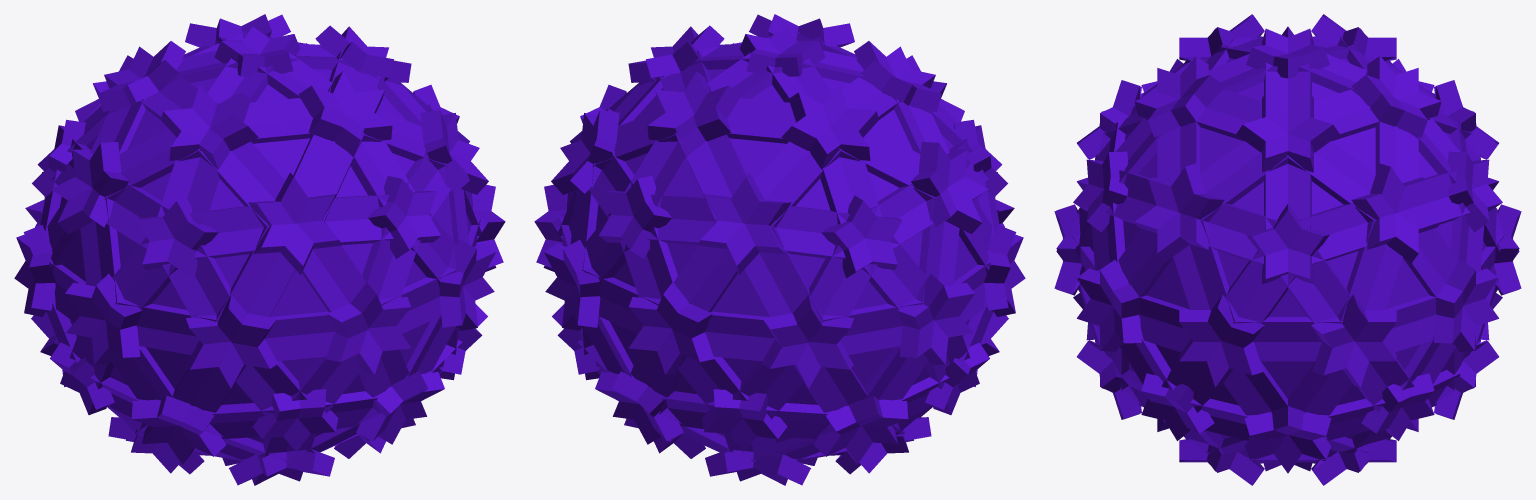
Rendered from Straight_S.obj.
3 renders of one model, left to right at view 1: azimuth 30°, elevation 25°; view 2: azimuth 150°, elevation 25°; view 3: azimuth 270°, elevation 25°, orthographic.
Parts seen in each view (by area): view 1: Icosphere; view 2: Icosphere; view 3: Icosphere.
Boxes of the visible parts, left/top/right/bottom form: Icosphere: left=14, top=14, right=505, bottom=485; Icosphere: left=534, top=14, right=1025, bottom=485; Icosphere: left=1054, top=14, right=1521, bottom=485.
Bounding box in the file's own units: 1.26 × 1.17 × 1.2.
